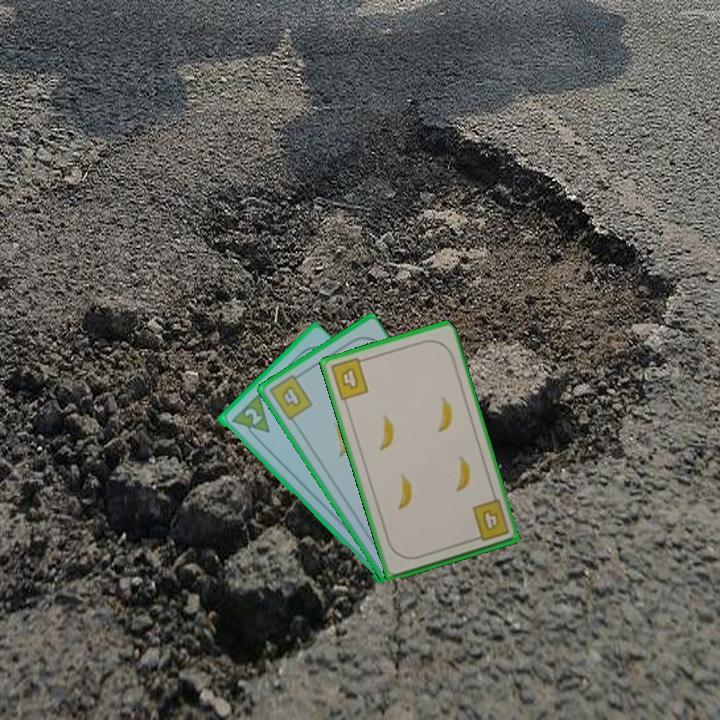2p: (240, 404, 265, 428)
4b: (265, 369, 315, 423), (326, 354, 371, 403), (468, 496, 512, 544)
